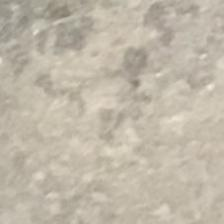Non_Crack: (11, 1, 224, 224)
